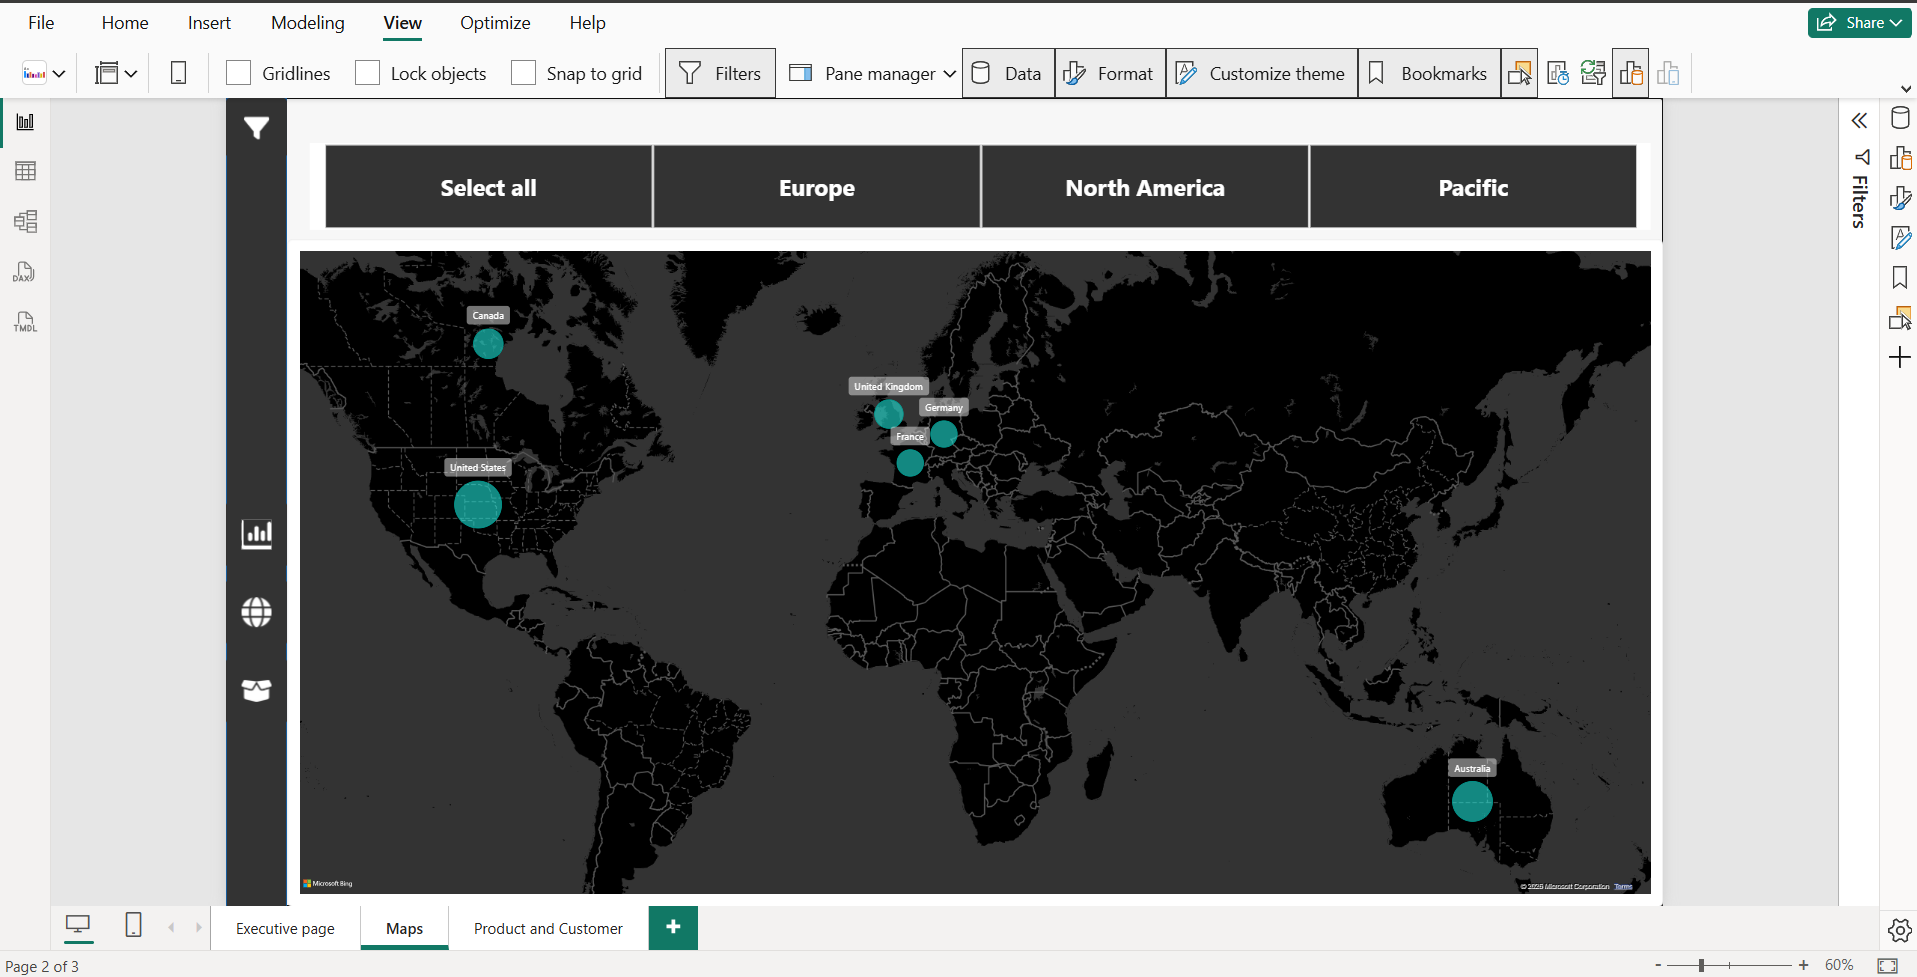

What the dashboard file says about the page in this screenshot:
{"tool":"powerbi","page":{"name":"Maps","canvas":[1920,1080],"ordinal":1},"visuals":[{"type":"shape","title":"Background","box":[0,0,81.4,1080.4],"z":0},{"type":"map","fields":{"Category":["Territory Lookup.Country"],"Size":["Measure Table.Distinct Sales Order"]},"box":[81.4,188.2,1838.6,892.2],"z":1000},{"type":"slicer","fields":{"Values":["Territory Lookup.Continent"]},"box":[112.2,59.7,1791.6,115.8],"z":2000},{"type":"actionButton","box":[0,539.3,81.4,88],"z":2001},{"type":"actionButton","box":[0,643.3,81.4,88],"z":2002},{"type":"actionButton","box":[0,747.4,81.4,88],"z":2003},{"type":"actionButton","box":[0,0,81.4,79.6],"z":2004}]}

Visuals, with their boxes on the page's 1920x1080 design canvas (x1, y1, x2, y2). These are canvas units, not pixel positions in the 1917x977 screenshot, which may show the page scaled, cropped or inside an application window:
"Background" shape: locate(0, 0, 81, 1080)
map - Territory Lookup.Country x Measure Table.Distinct Sales Order: locate(81, 188, 1920, 1080)
slicer - Territory Lookup.Continent: locate(112, 60, 1904, 176)
actionButton: locate(0, 539, 81, 627)
actionButton: locate(0, 643, 81, 731)
actionButton: locate(0, 747, 81, 835)
actionButton: locate(0, 0, 81, 80)
